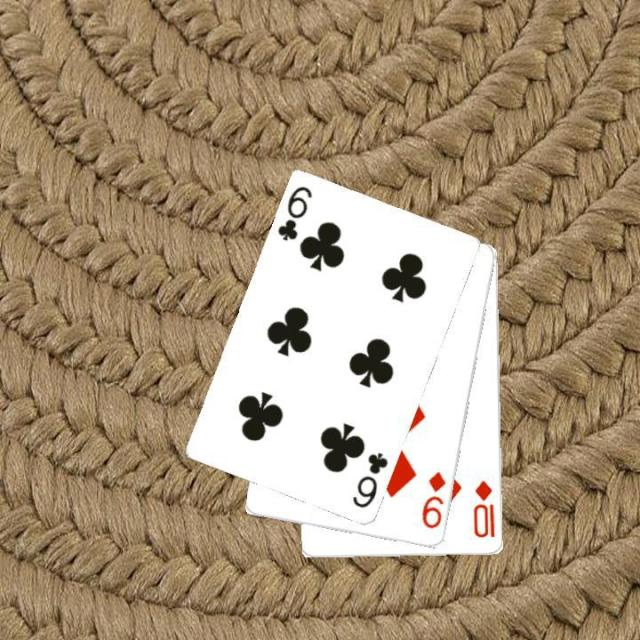10D: (470, 478, 498, 540)
6C: (348, 449, 391, 510), (274, 182, 314, 244)
9D: (418, 468, 448, 532)
